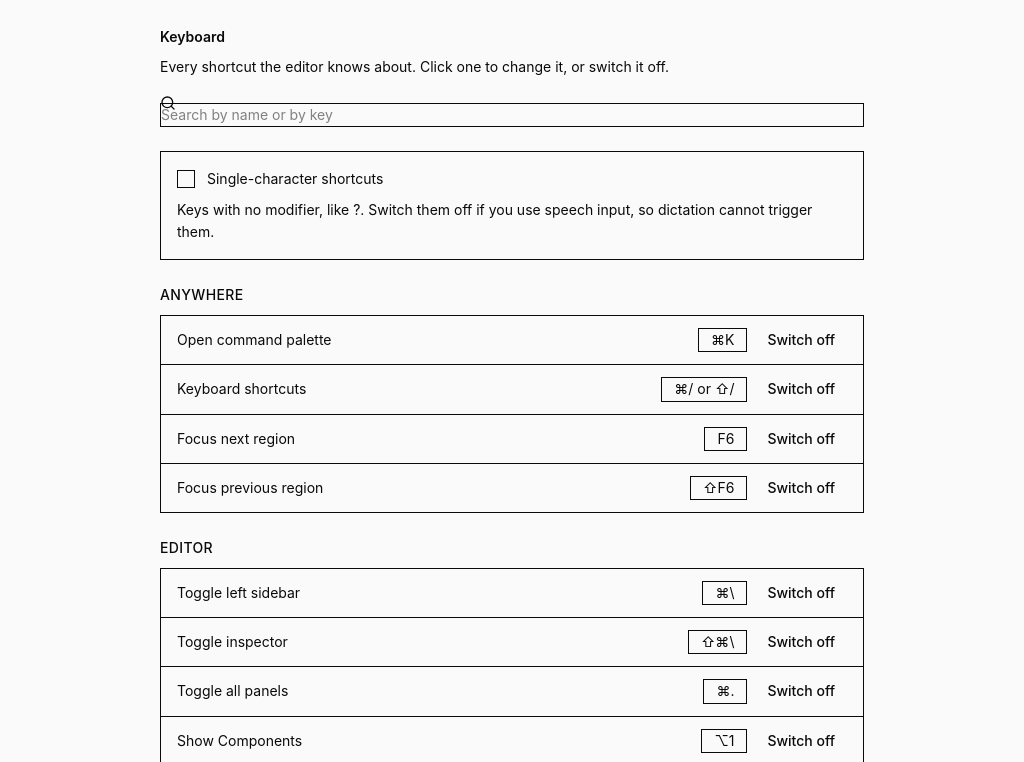
Test case: KeyboardSettings › resetting › is offered only once something has changed
Click the button "⇧⌘\\": point(718, 642) [688,630,747,654]
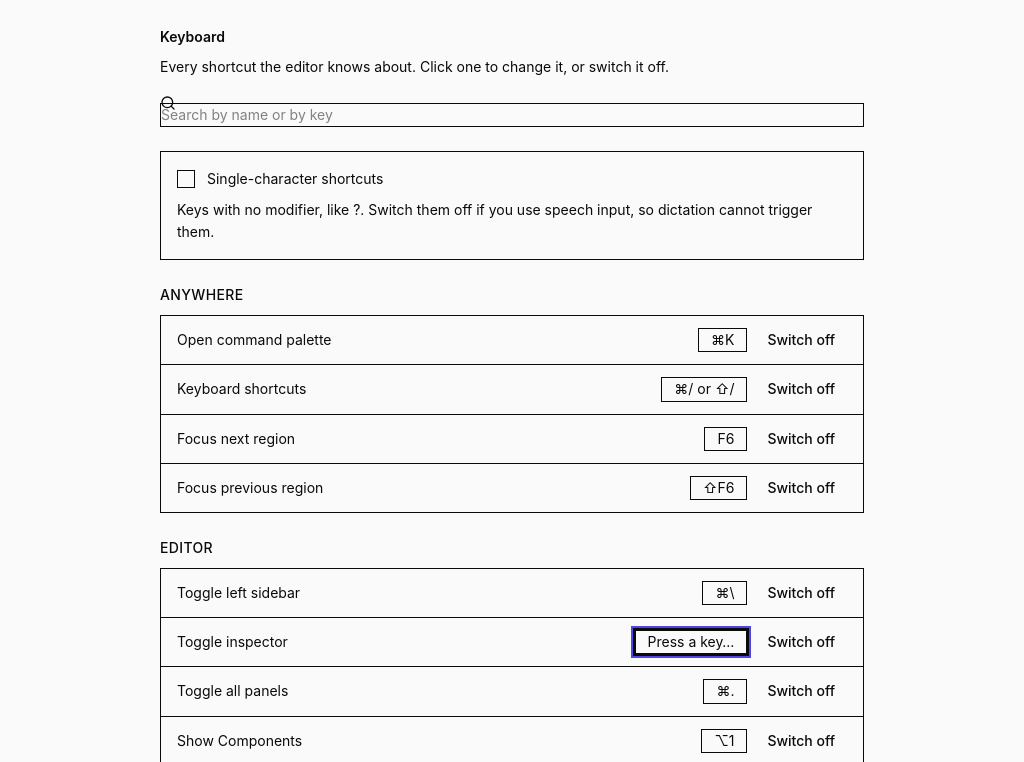
Type keys "{Meta>}j{/Meta}"
(page scrolled)
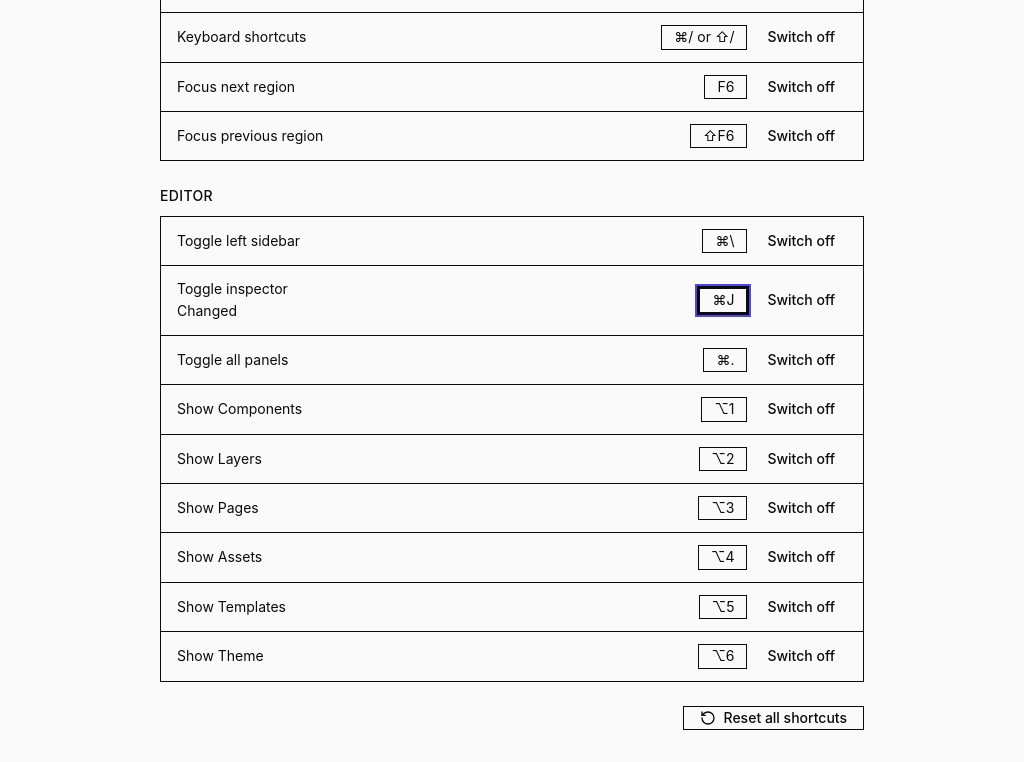
Expected: the button "Reset all shortcuts" is enabled, [682,706,864,730]
